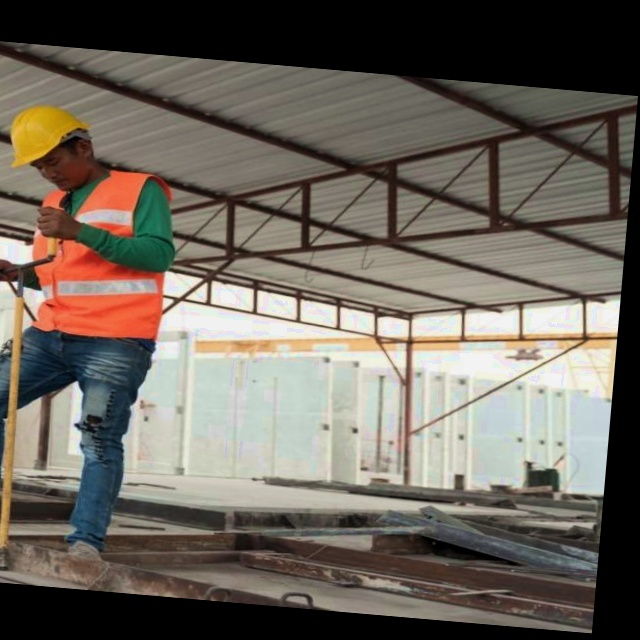Con_Casco: (4, 103, 94, 192)
Con_Chaleco: (23, 172, 175, 344)
